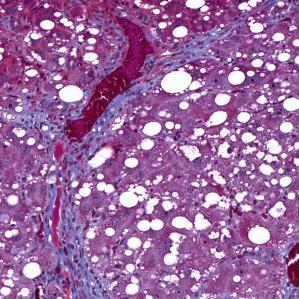fibrosis: (33, 180, 93, 280), (153, 33, 231, 65)
